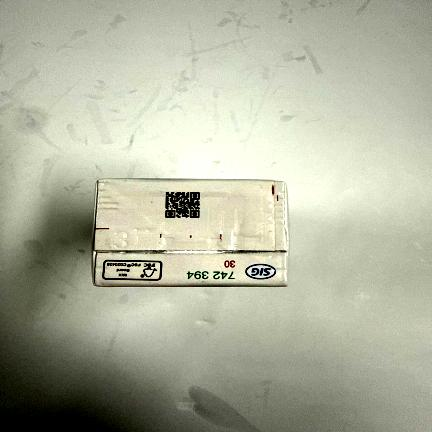milk_green: (92, 178, 289, 288)
